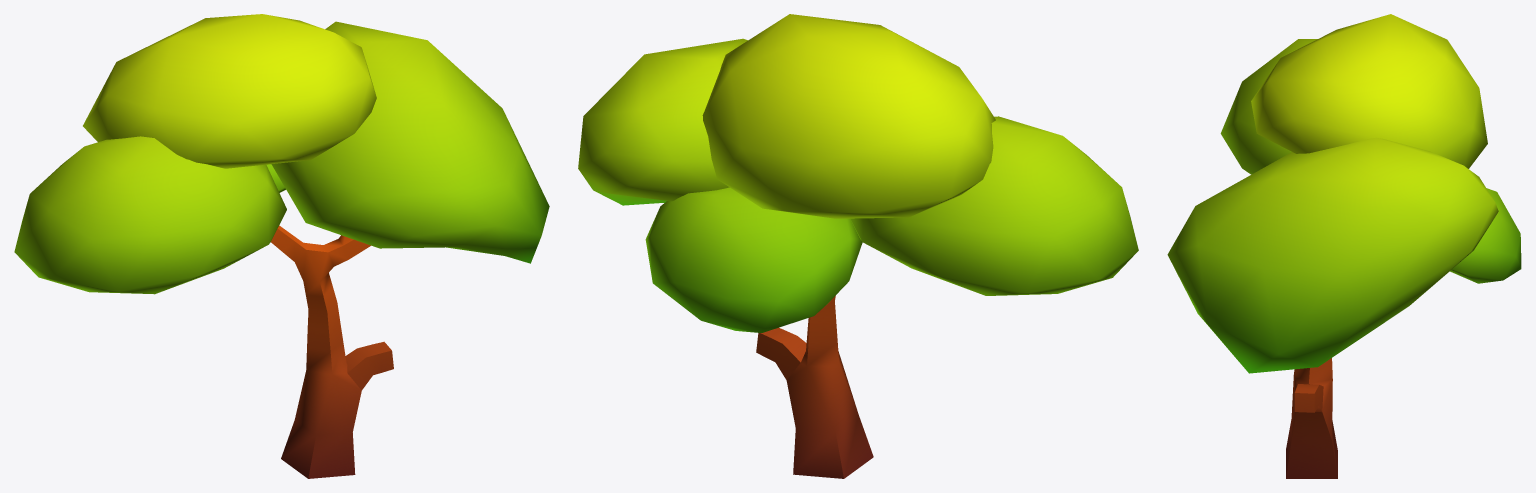
Rendered from tree-2.glb.
3 views of the same model, side by side, from view 1: azimuth 30°, elevation 25°; view 2: azimuth 150°, elevation 25°; view 3: azimuth 270°, elevation 25° (orthographic). The views are drawn at different scales.
Visible parts, largest first — view 1: 02-tree-root_gradinet-image-texure_0; view 2: 02-tree-root_gradinet-image-texure_0; view 3: 02-tree-root_gradinet-image-texure_0.
Part boxes in pixels (x1=…): 02-tree-root_gradinet-image-texure_0: x1=14, y1=14, x2=549, y2=478; 02-tree-root_gradinet-image-texure_0: x1=578, y1=14, x2=1138, y2=478; 02-tree-root_gradinet-image-texure_0: x1=1167, y1=14, x2=1521, y2=478.
Size of the model in its own units: 11.81 by 9.98 by 7.81.
Materials: 1 (1 with a texture image).
